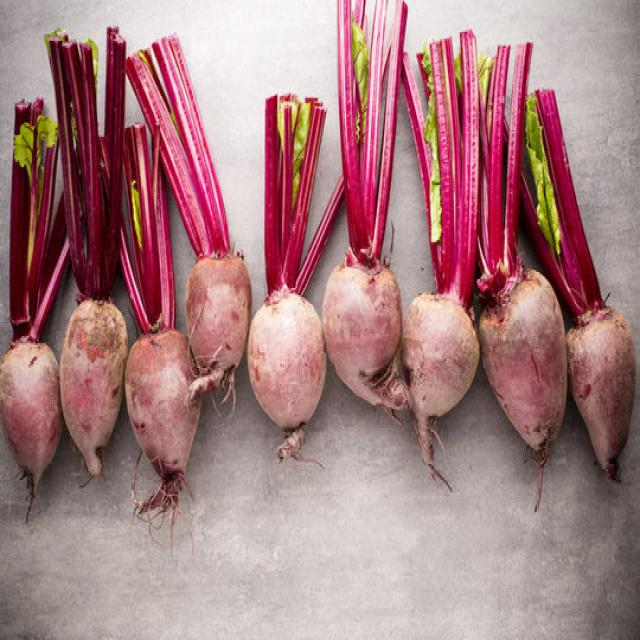Beetroot: (123, 301, 203, 493), (0, 283, 68, 502), (56, 295, 122, 490), (323, 246, 406, 395), (489, 276, 568, 421), (188, 246, 260, 386), (404, 294, 484, 414), (256, 286, 322, 424), (570, 312, 636, 438)
